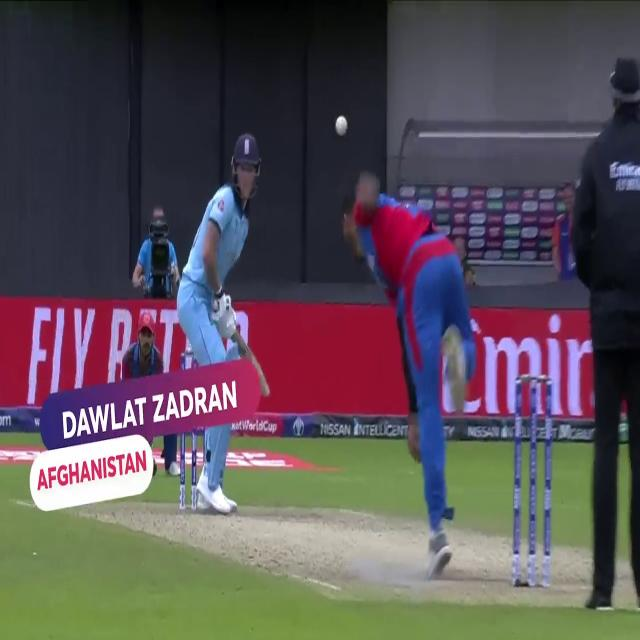ball: (332, 110, 348, 143)
